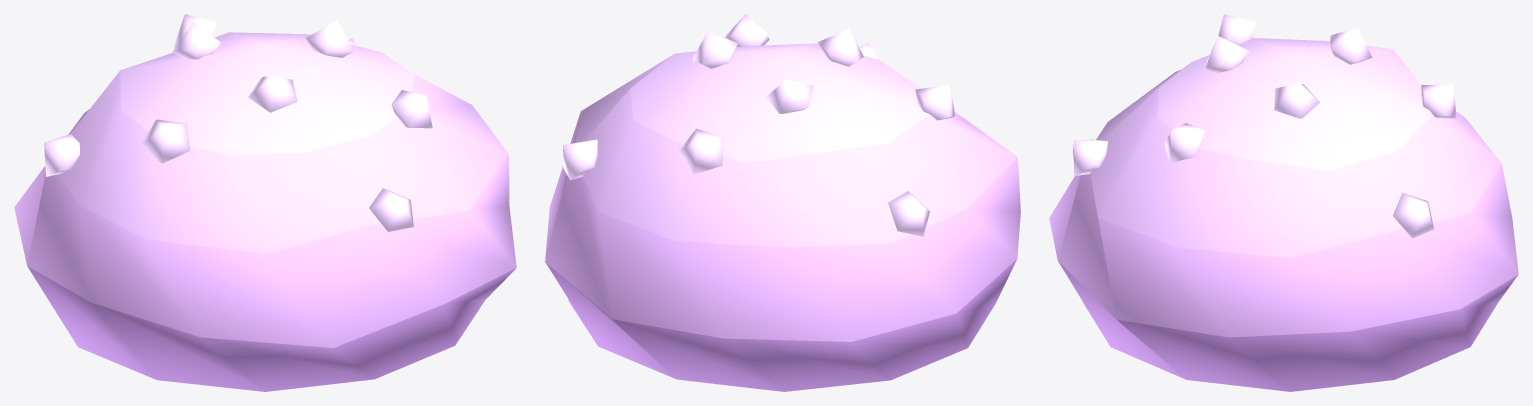
Rendered from coral-c.glb.
3 renders of one model, left to right at view 1: azimuth 30°, elevation 25°; view 2: azimuth 150°, elevation 25°; view 3: azimuth 270°, elevation 25°, orthographic. The views are drawn at different scales.
Visible parts, largest first — view 1: coral-c; view 2: coral-c; view 3: coral-c.
Boxes of the visible parts, <box> form: coral-c: <box>14,14,516,391</box>; coral-c: <box>545,14,1020,391</box>; coral-c: <box>1049,14,1518,391</box>.
Size of the model in its own units: 3 by 1.8 by 3.
